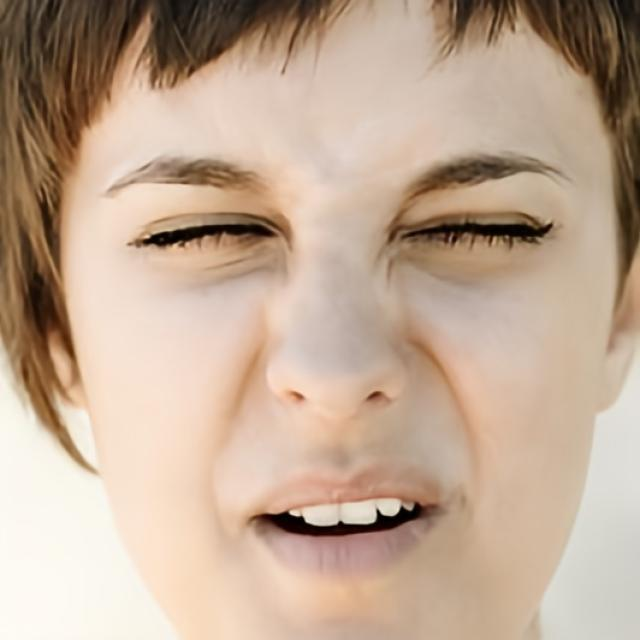disgust: (59, 0, 617, 640)
